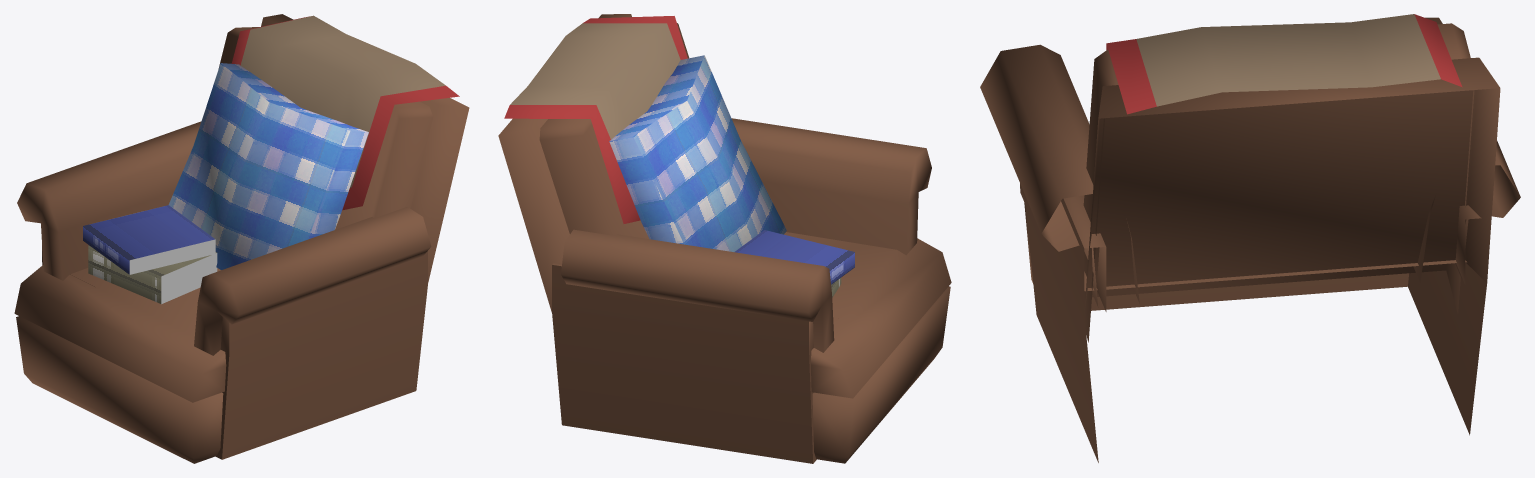
File: interior_A_005.fbx
3 renders of one model, left to right at view 1: azimuth 30°, elevation 25°; view 2: azimuth 150°, elevation 25°; view 3: azimuth 270°, elevation 25°, orthographic. The views are drawn at different scales.
Parts seen in each view (by area): view 1: interior_A_005; view 2: interior_A_005; view 3: interior_A_005.
Part boxes in pixels (x1,y1,x2,y2): interior_A_005: (14,14,469,463); interior_A_005: (498,14,951,463); interior_A_005: (980,14,1520,462).
Bounding box in the file's own units: 115 × 93.67 × 110.
